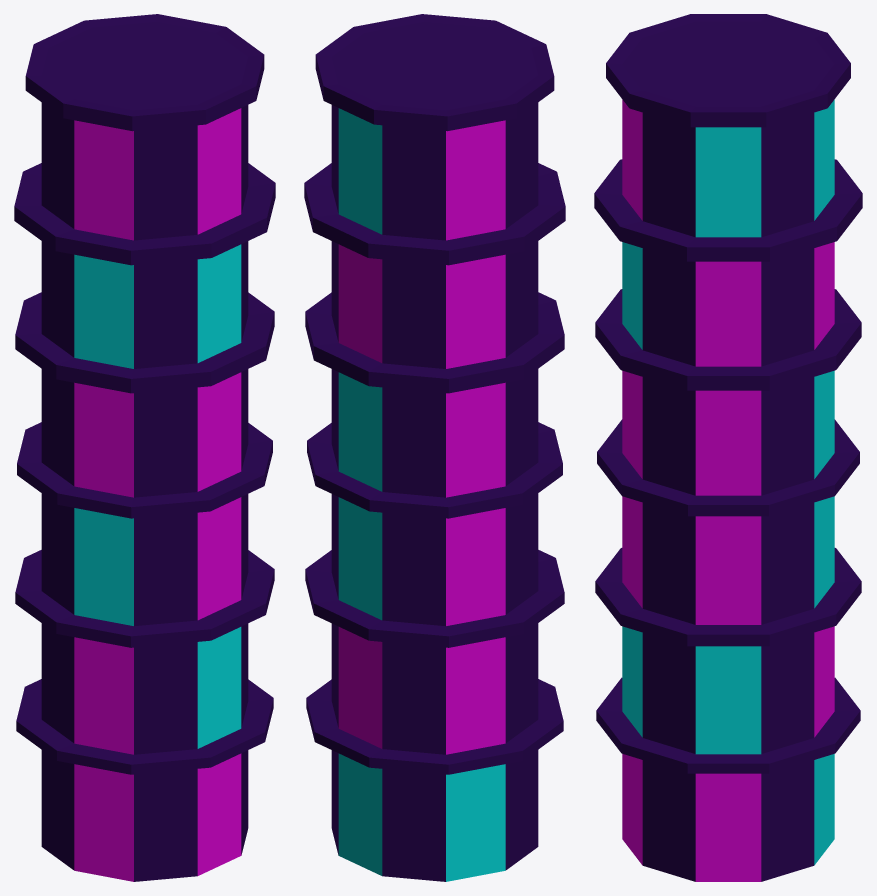
The model's file is Oscuro Morado Edificio 3.glb.
The picture shows the model from 3 angles, left to right: view 1: azimuth 30°, elevation 25°; view 2: azimuth 150°, elevation 25°; view 3: azimuth 270°, elevation 25°; orthographic projection.
Visible parts, largest first — view 1: Cylinder.005; view 2: Cylinder.005; view 3: Cylinder.005.
Boxes of the visible parts, bbox=[...] form: Cylinder.005: bbox=[14, 14, 275, 881]; Cylinder.005: bbox=[304, 14, 565, 881]; Cylinder.005: bbox=[594, 14, 862, 881].
Bounding box in the file's own units: 23.9 × 80.14 × 25.13.
